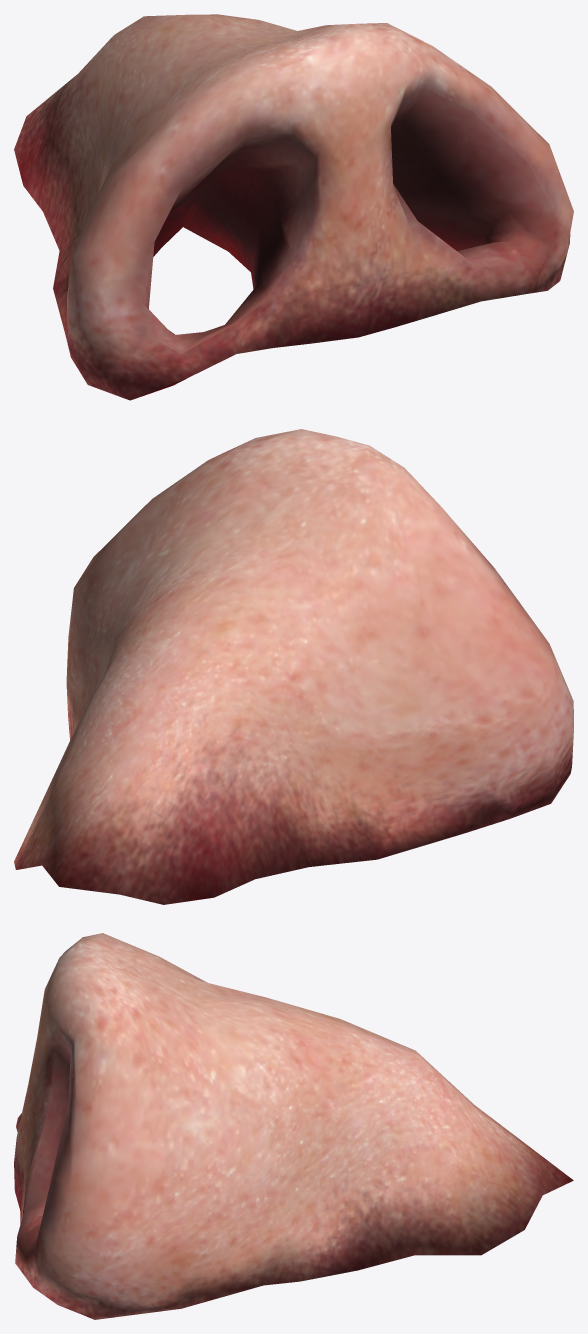
The model's file is Nose_6.fbx.
The picture shows the model from 3 angles, top to bottom: view 1: azimuth 30°, elevation 25°; view 2: azimuth 150°, elevation 25°; view 3: azimuth 270°, elevation 25°; orthographic projection. The views are drawn at different scales.
Visible parts, largest first — view 1: nose_6; view 2: nose_6; view 3: nose_6.
Part boxes in pixels (x1,y1,x2,y2): nose_6: (14, 14, 573, 400); nose_6: (14, 429, 573, 904); nose_6: (14, 933, 573, 1319).
Bounding box in the file's own units: 0.047 × 0.0278 × 0.0523.
